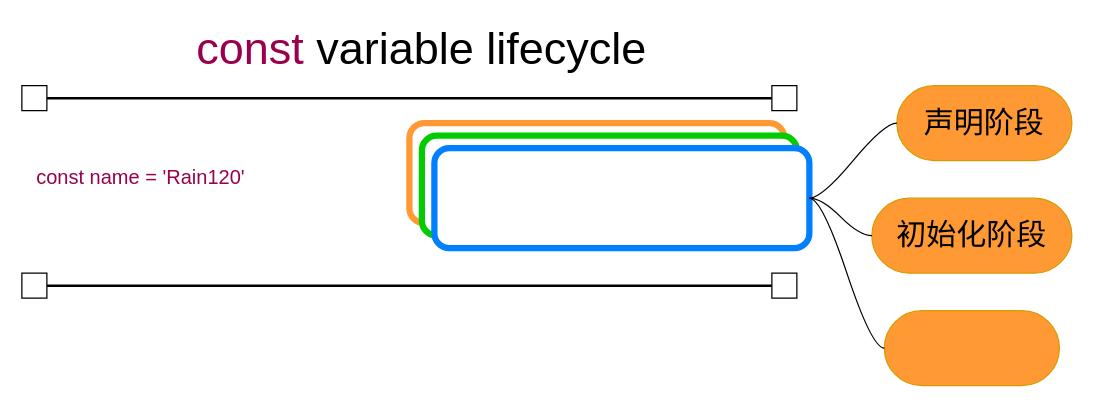
Image size: 1094x408. Some labels were removed from this diagram. The shapes that lost their labels are listed below. From the top down, each one's centre as x and y in pixels, then its label:
At (x=621, y=197): "Declaration Phase Initialization Phase Assignment Phase".
At (x=971, y=347): "赋值阶段".
